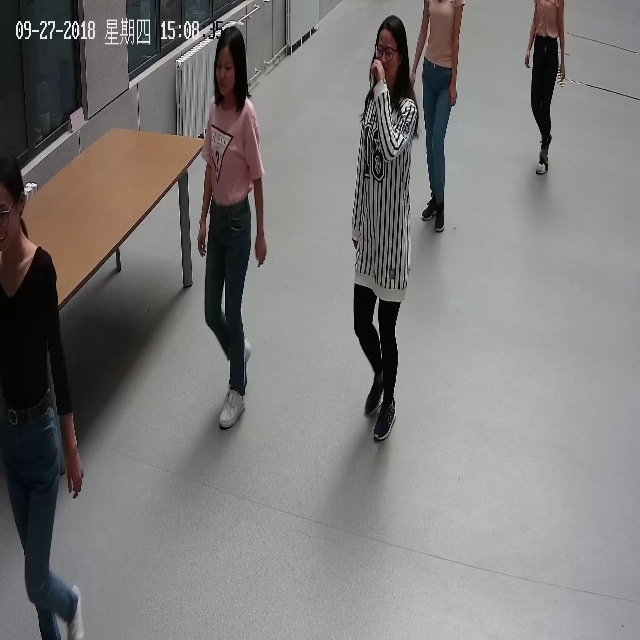head: (206, 23, 253, 106), (368, 10, 412, 86), (1, 151, 28, 241)
